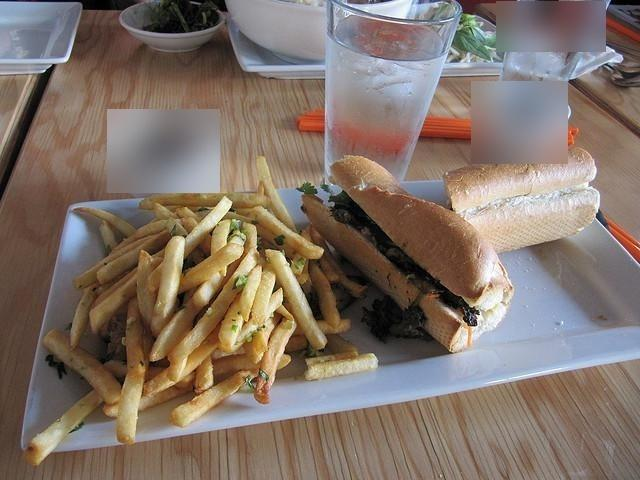glass-normal: (323, 1, 462, 181)
